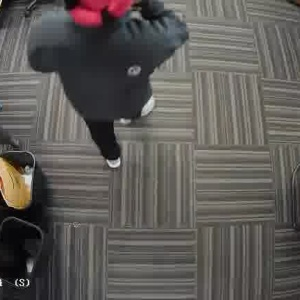person: (48, 0, 170, 158)
